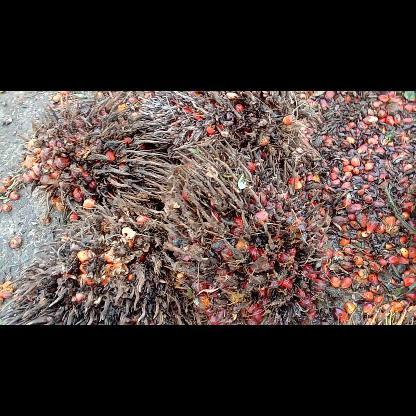Terlalu masak: (127, 134, 333, 324), (0, 192, 201, 324), (16, 91, 178, 213), (134, 91, 328, 191)
